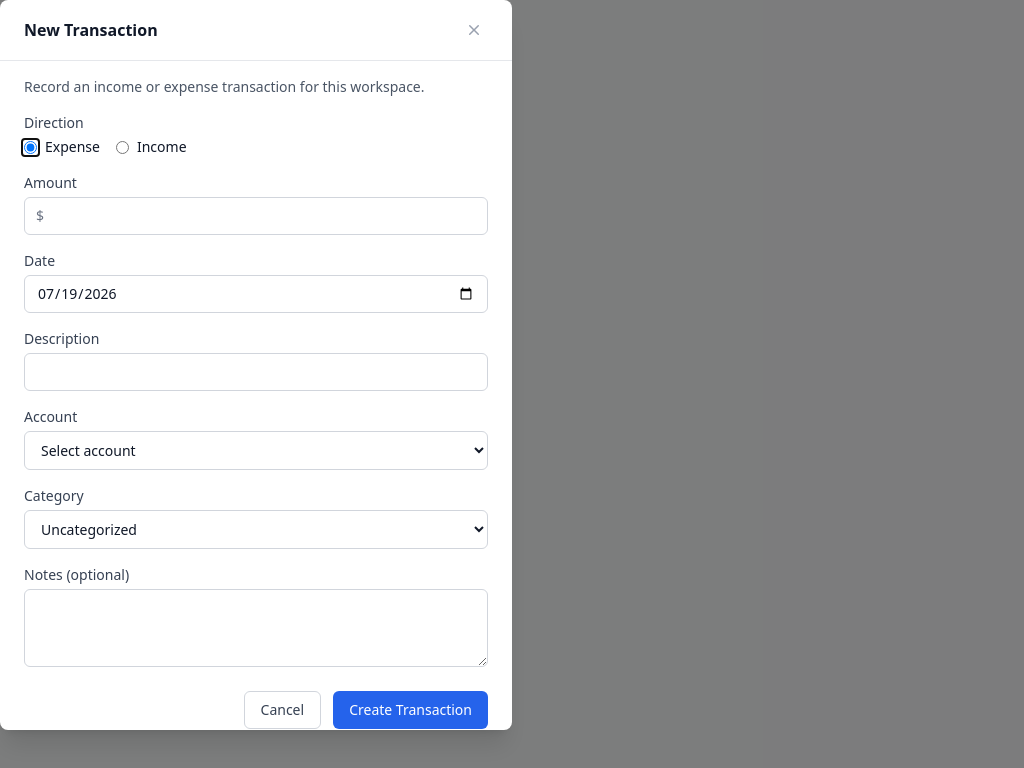
Test case: CreateTransactionDialog — amount and direction › blocks submission on negative amount input
Type "42.50" into the field labelled "Amount".
click(256, 216); type("42.50")  # box left=24, top=197, right=488, bottom=235
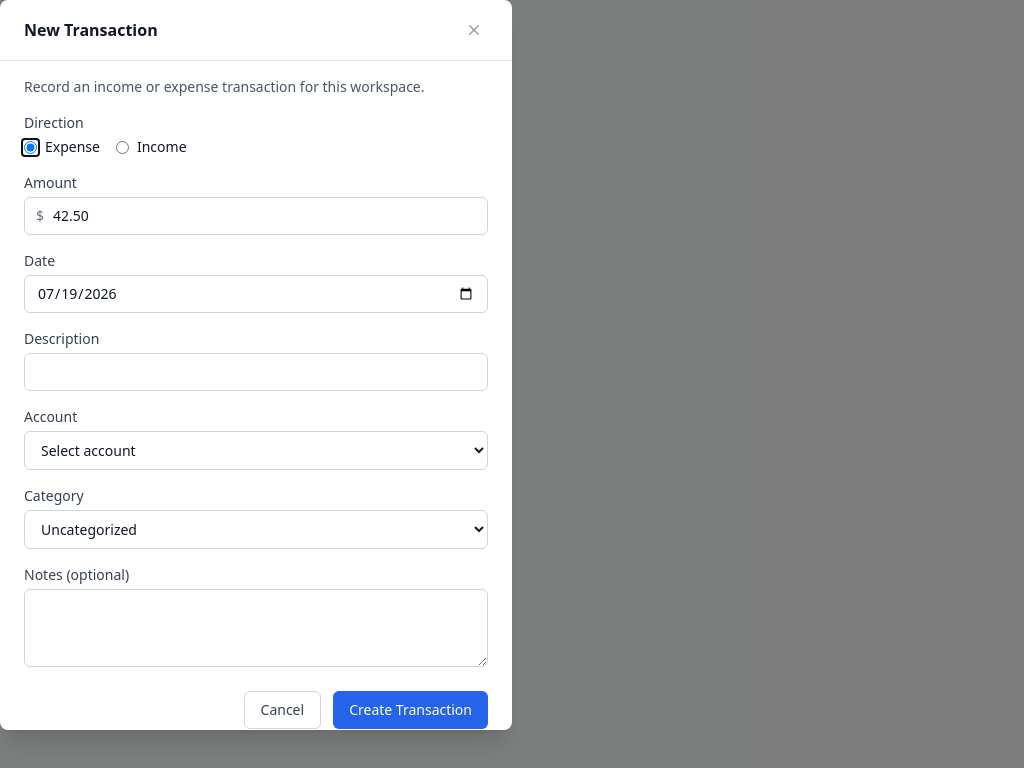
Type "Groceries run" into the field labelled "Description".
click(256, 372); type("Groceries run")  # box left=24, top=353, right=488, bottom=391
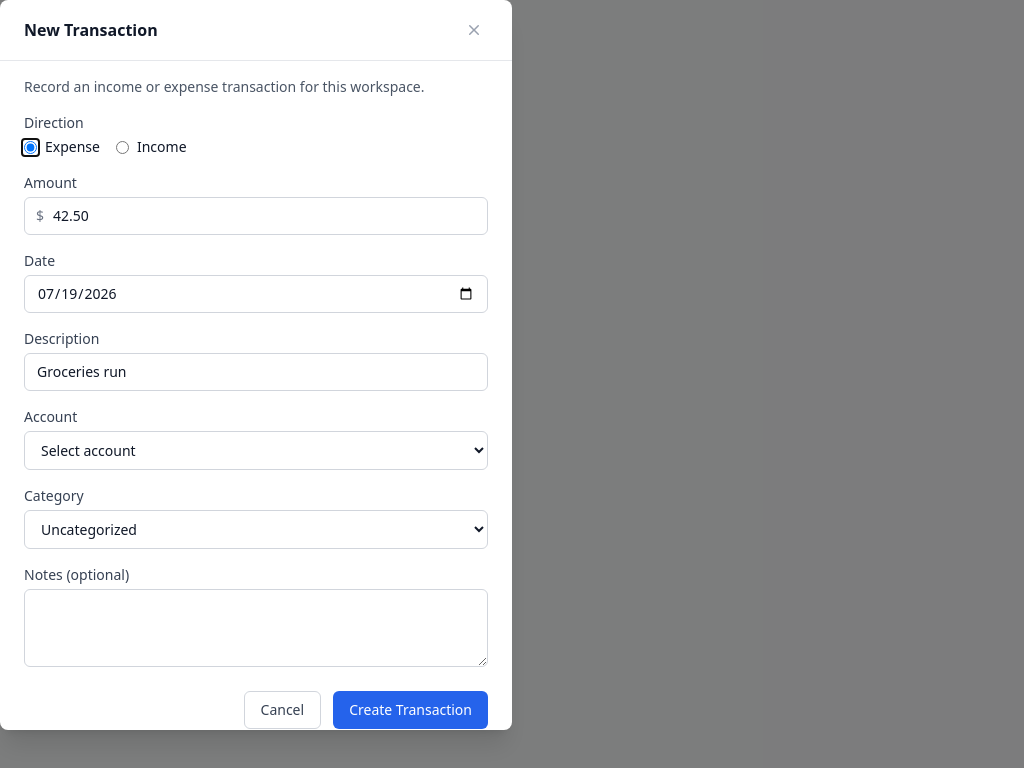
Select "Everyday Checking" in the dropdown labelled "Account" at point(256, 450), box left=24, top=431, right=488, bottom=470
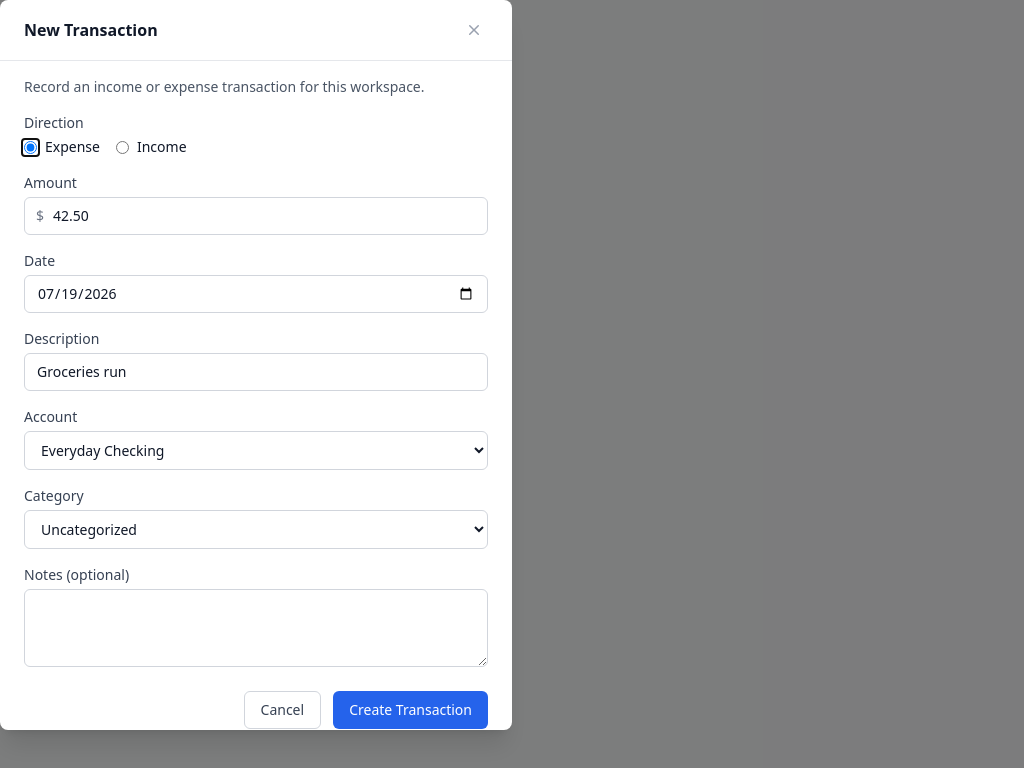
Replace the text in the field labelled "Amount" with "-10" at point(256, 216), box left=24, top=197, right=488, bottom=235
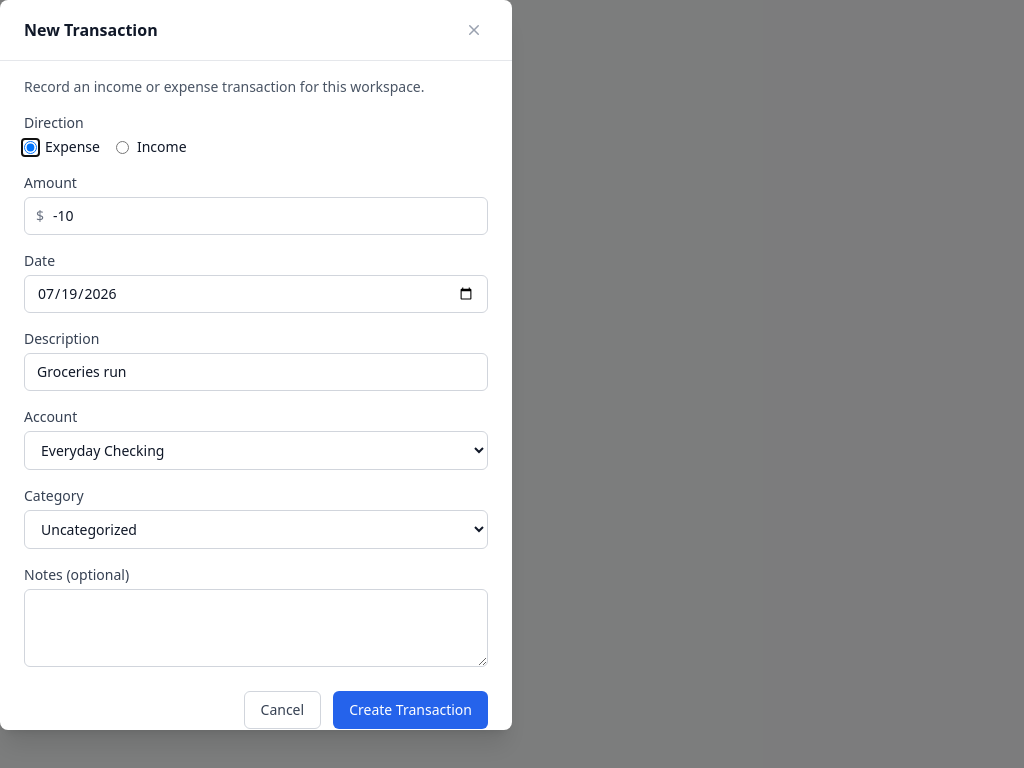
Click the button "Create Transaction".
click(411, 710)  # box left=333, top=691, right=488, bottom=729
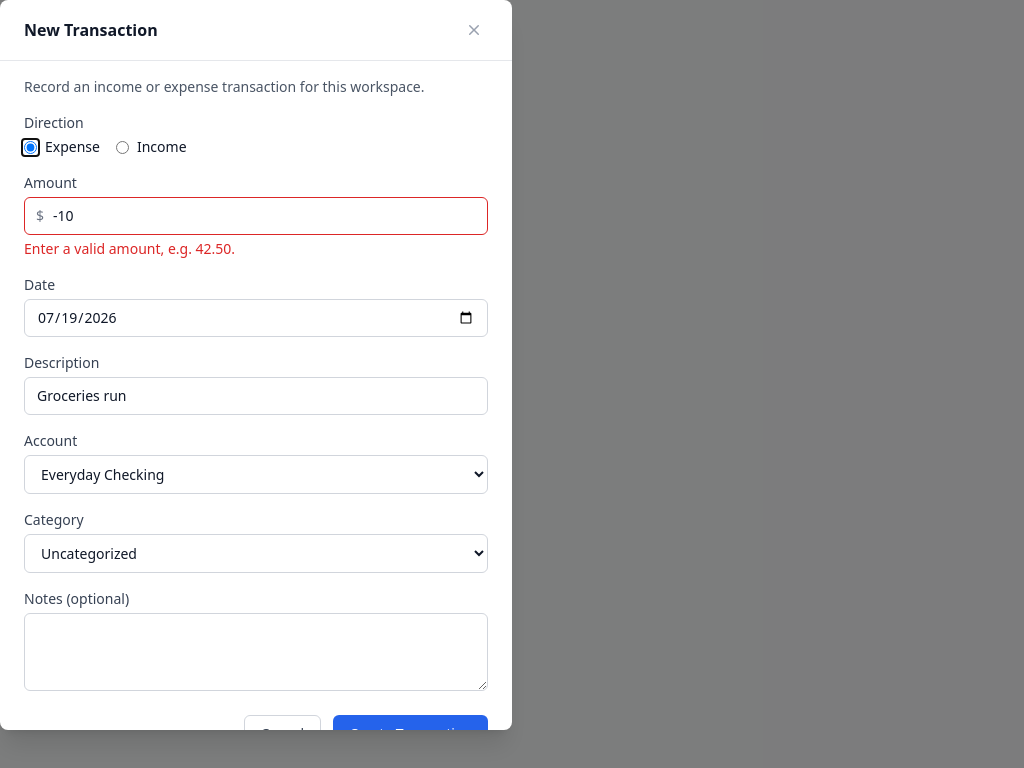
Expected: the text "Enter a valid amount, e.g. 42.50." is shown, left=24, top=239, right=235, bottom=258
